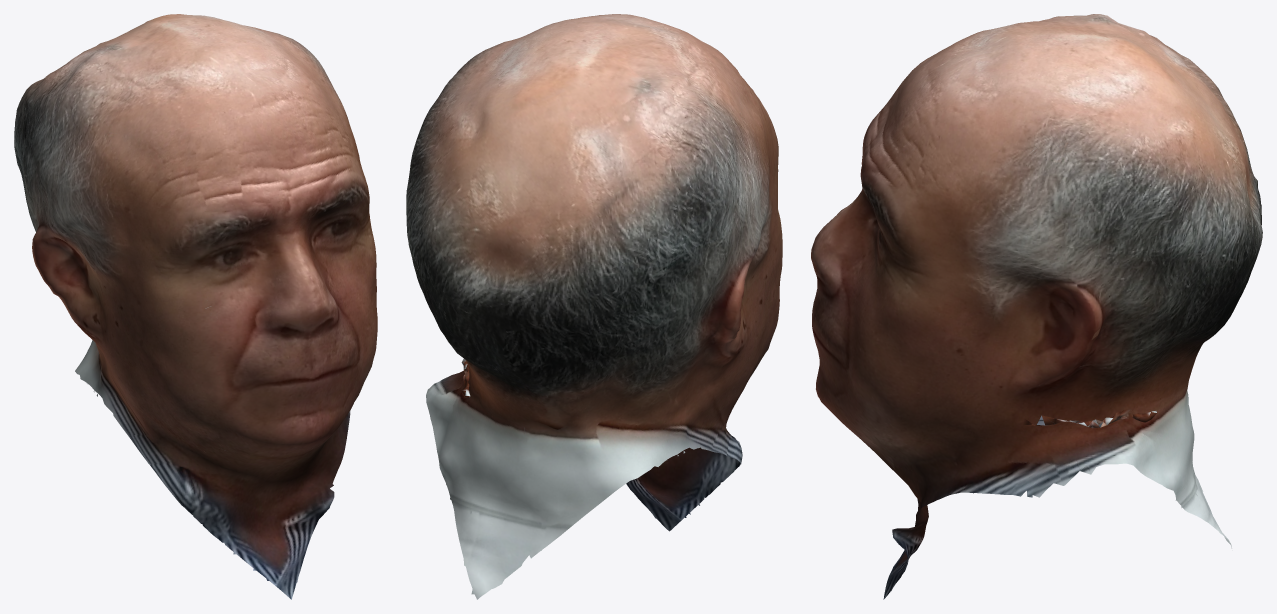
The model's file is cabezadelprofe.fbx.
The picture shows the model from 3 angles, left to right: view 1: azimuth 30°, elevation 25°; view 2: azimuth 150°, elevation 25°; view 3: azimuth 270°, elevation 25°; orthographic projection. The views are drawn at different scales.
Visible parts, largest first — view 1: mesh; view 2: mesh; view 3: mesh.
Part boxes in pixels (<box>): mesh: <box>14,14,377,599</box>; mesh: <box>406,14,782,599</box>; mesh: <box>811,14,1262,599</box>.
Size of the model in its own units: 27.13 by 45.01 by 33.34.
1 material, 1 textured.
